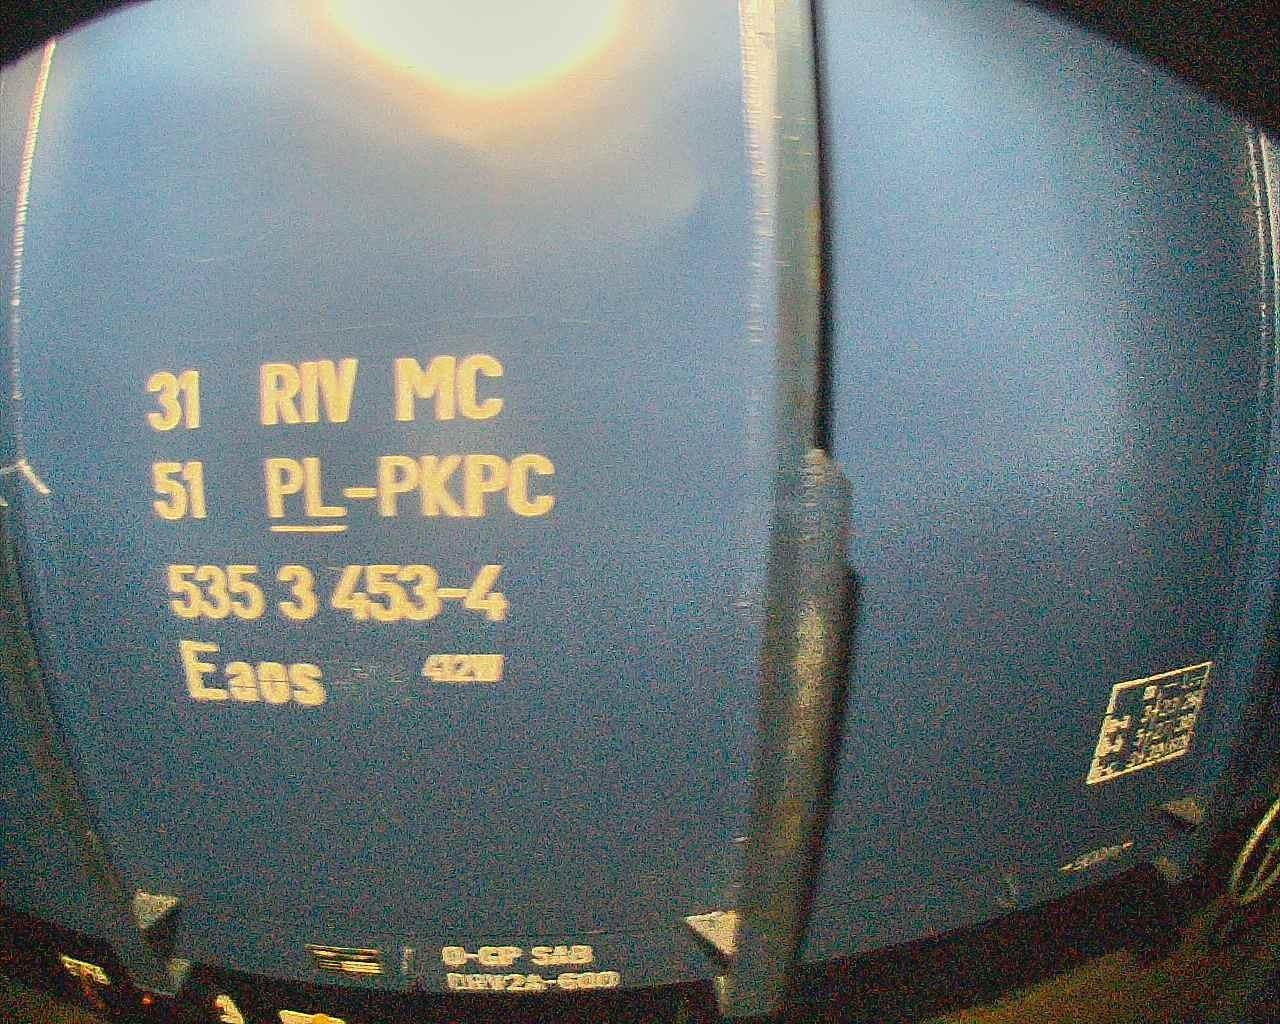UIC: (143, 351, 557, 706)
